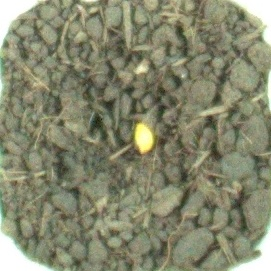pepper seed: (53, 43, 212, 200)
